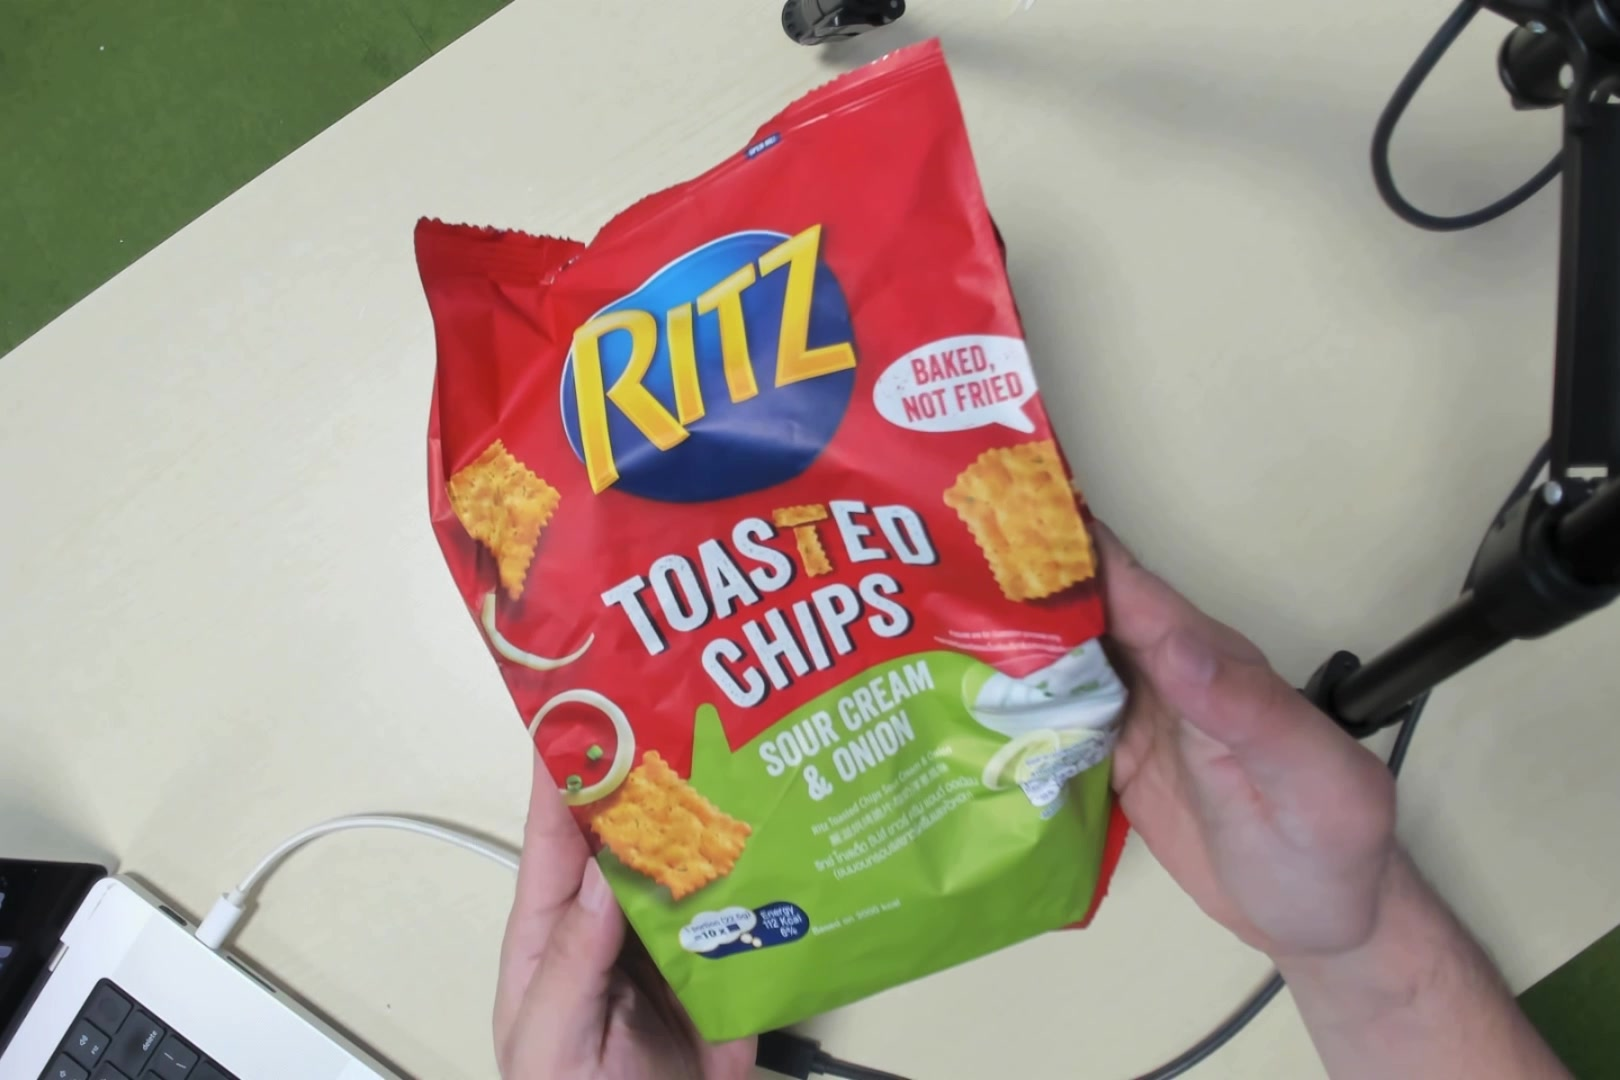BiscuitsCrackersCookies_200-299g_NonHalal_NonHealthy: (470, 174, 1113, 1008)
